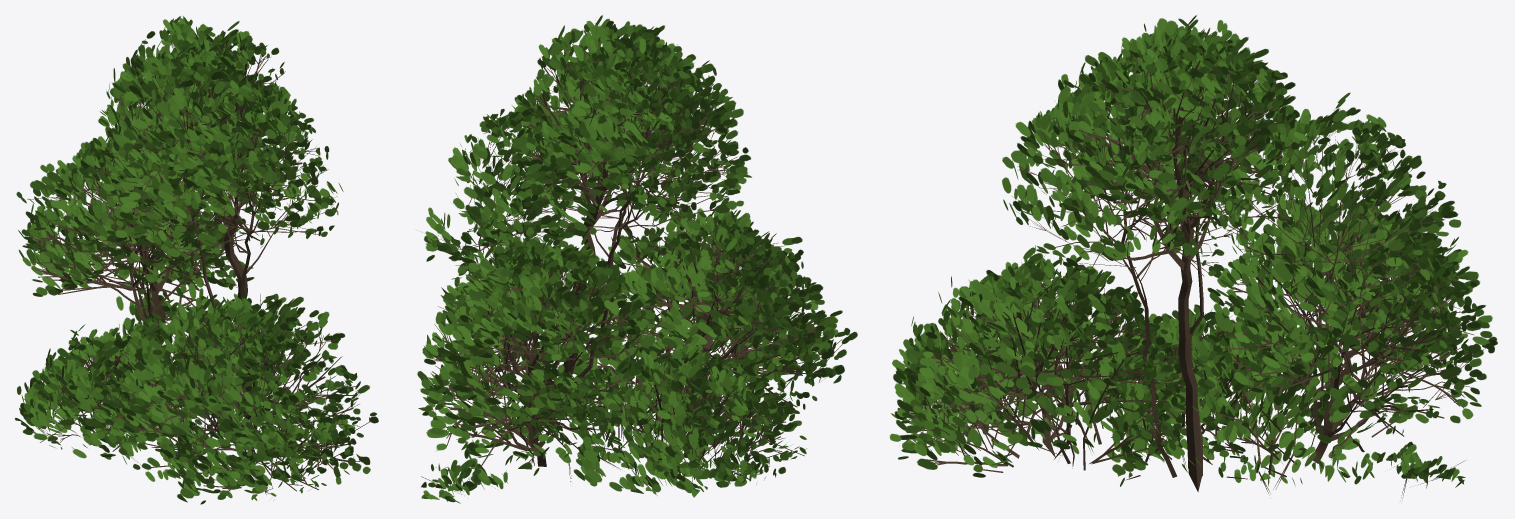
3 renders of one model, left to right at view 1: azimuth 30°, elevation 25°; view 2: azimuth 150°, elevation 25°; view 3: azimuth 270°, elevation 25°, orthographic. The views are drawn at different scales.
Visible parts, largest first — view 1: oak 01.001_trunk_Mat.001_0.271; view 2: oak 01.001_trunk_Mat.001_0.271; view 3: oak 01.001_trunk_Mat.001_0.271.
Boxes of the visible parts, <box> form: oak 01.001_trunk_Mat.001_0.271: <box>15,16,378,504</box>; oak 01.001_trunk_Mat.001_0.271: <box>417,15,857,503</box>; oak 01.001_trunk_Mat.001_0.271: <box>890,15,1497,498</box>.
Size of the model in its own units: 3.36 by 4.77 by 5.88.
Materials: 2 (1 with a texture image).
